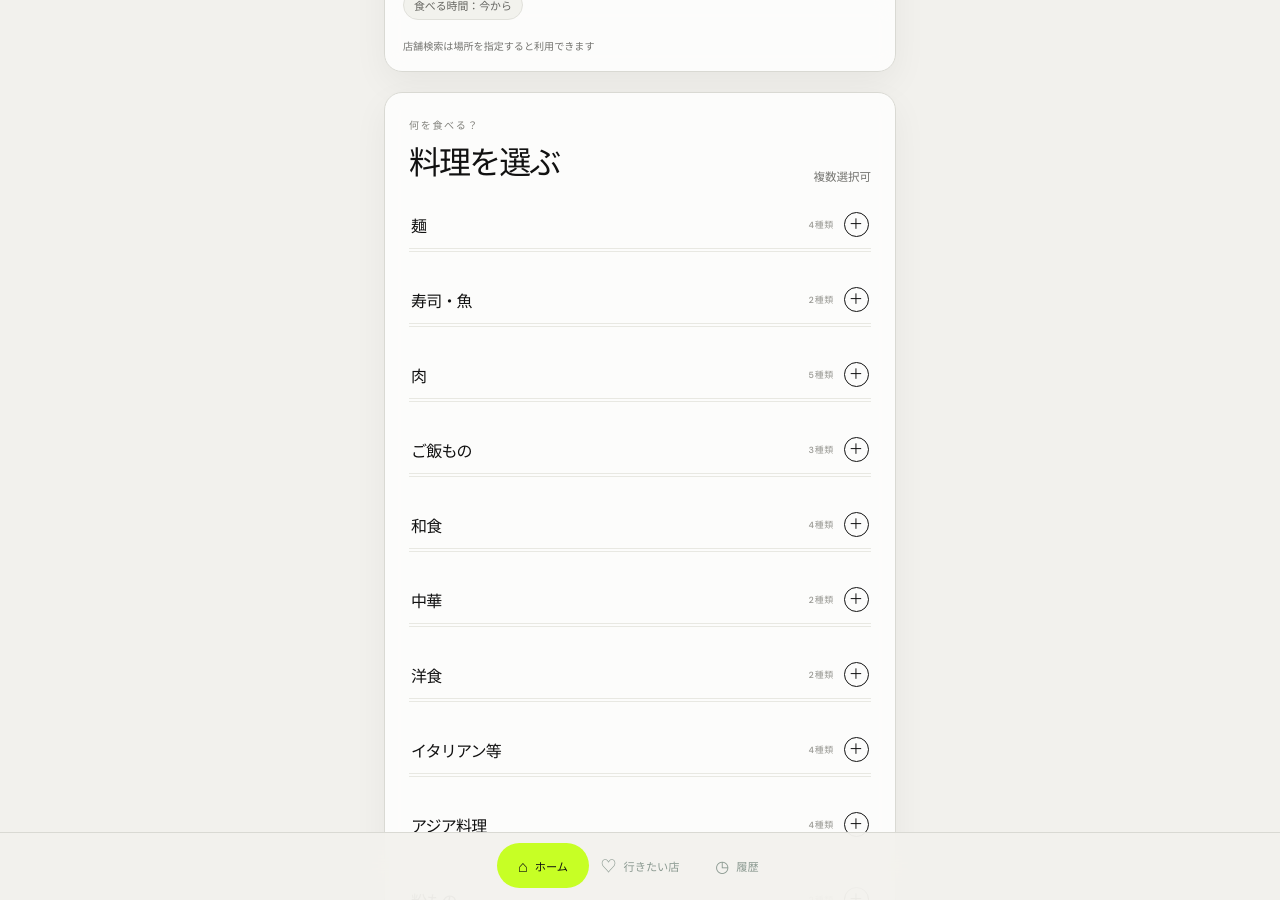
Scenario: meal roulette user flows › can rerun a cuisine decision from history
(page scrolled)
Click the button "ご飯もの 3種類 ＋" at [441, 450], box [409,426,871,474]
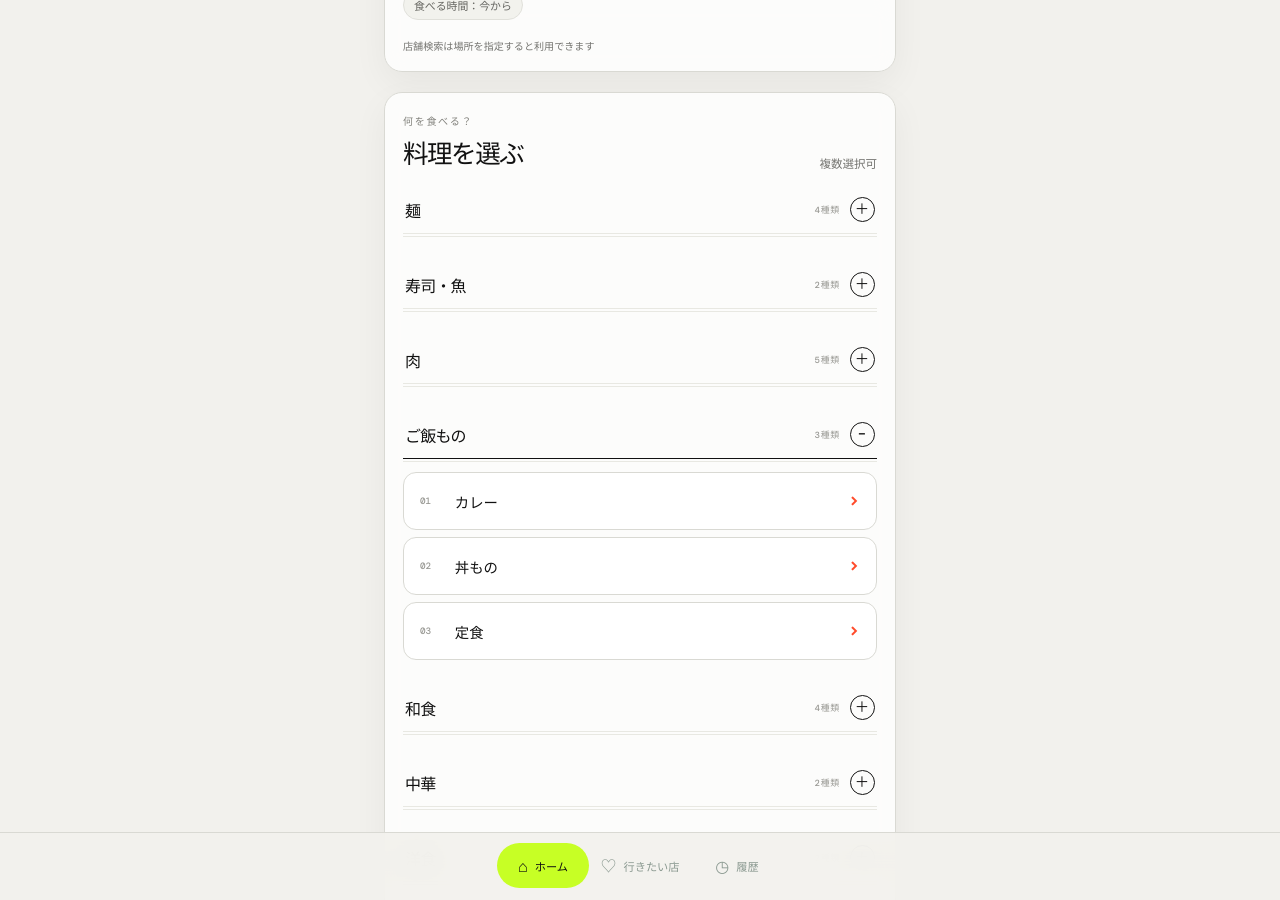
Click the button "カレー" at [476, 502], box [403,472,877,530]
(page scrolled)
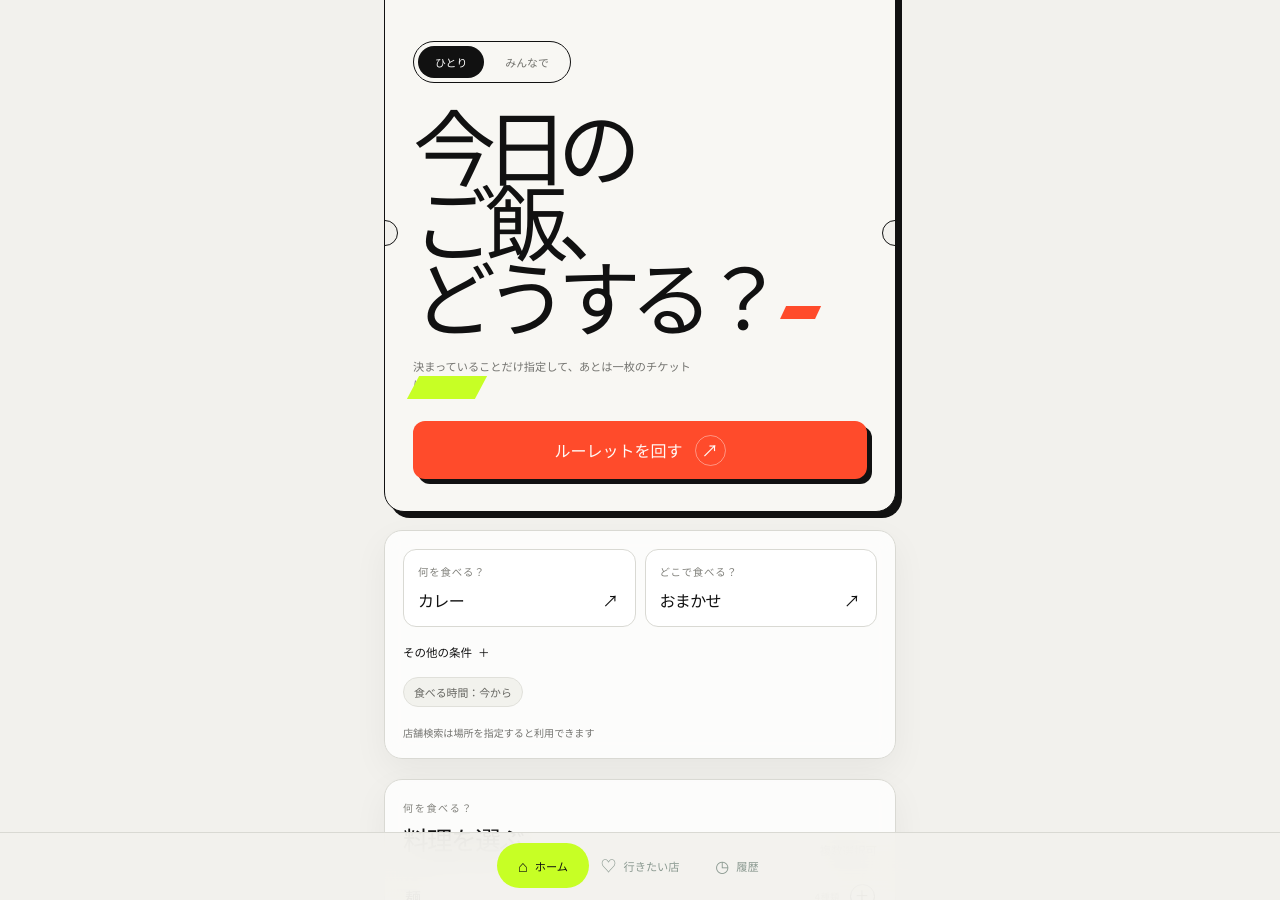
Click the button "ルーレットを回す ↗" at [640, 450], box [413,421,867,479]
(page scrolled)
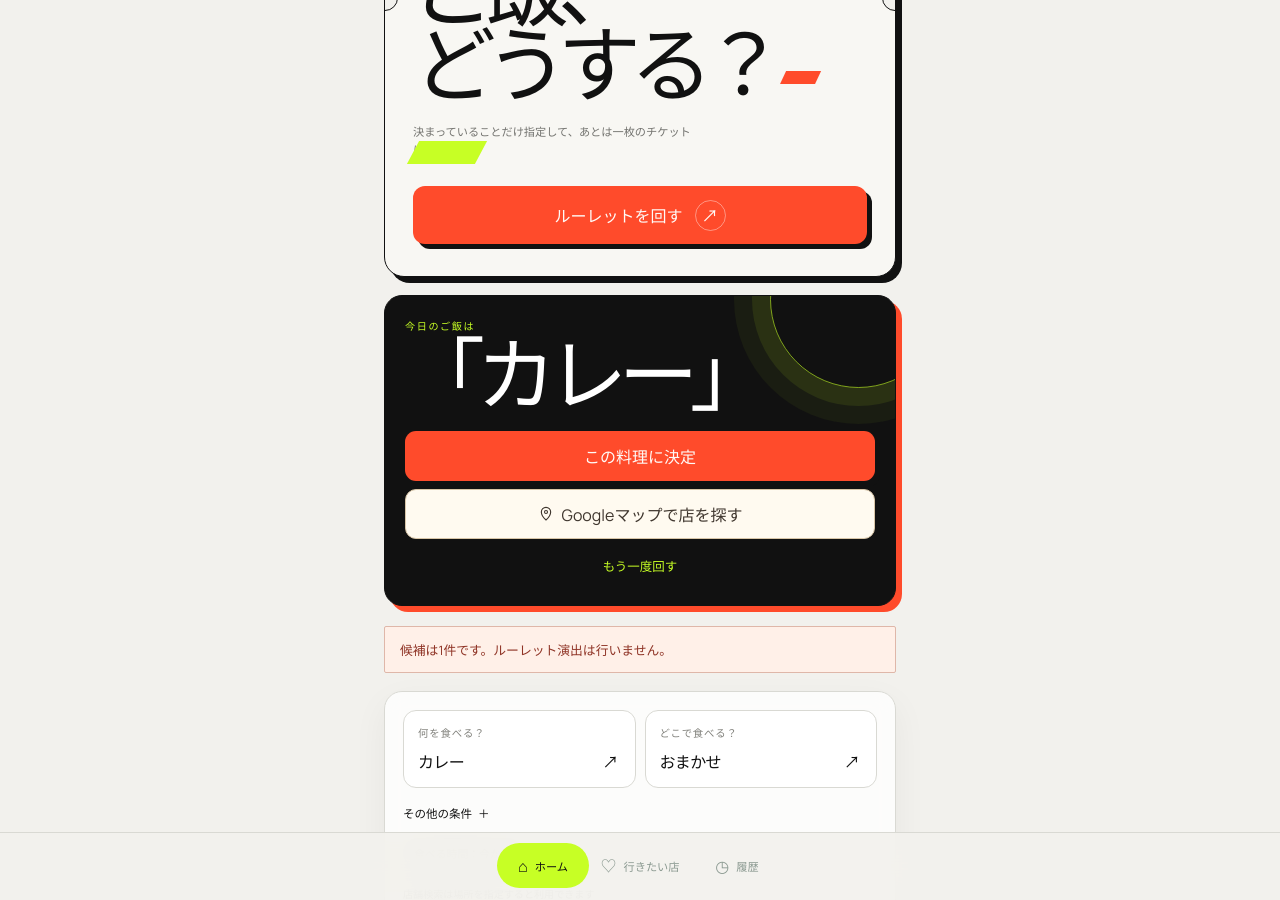
Click the button "この料理に決定" at [640, 456], box [405,431,875,481]
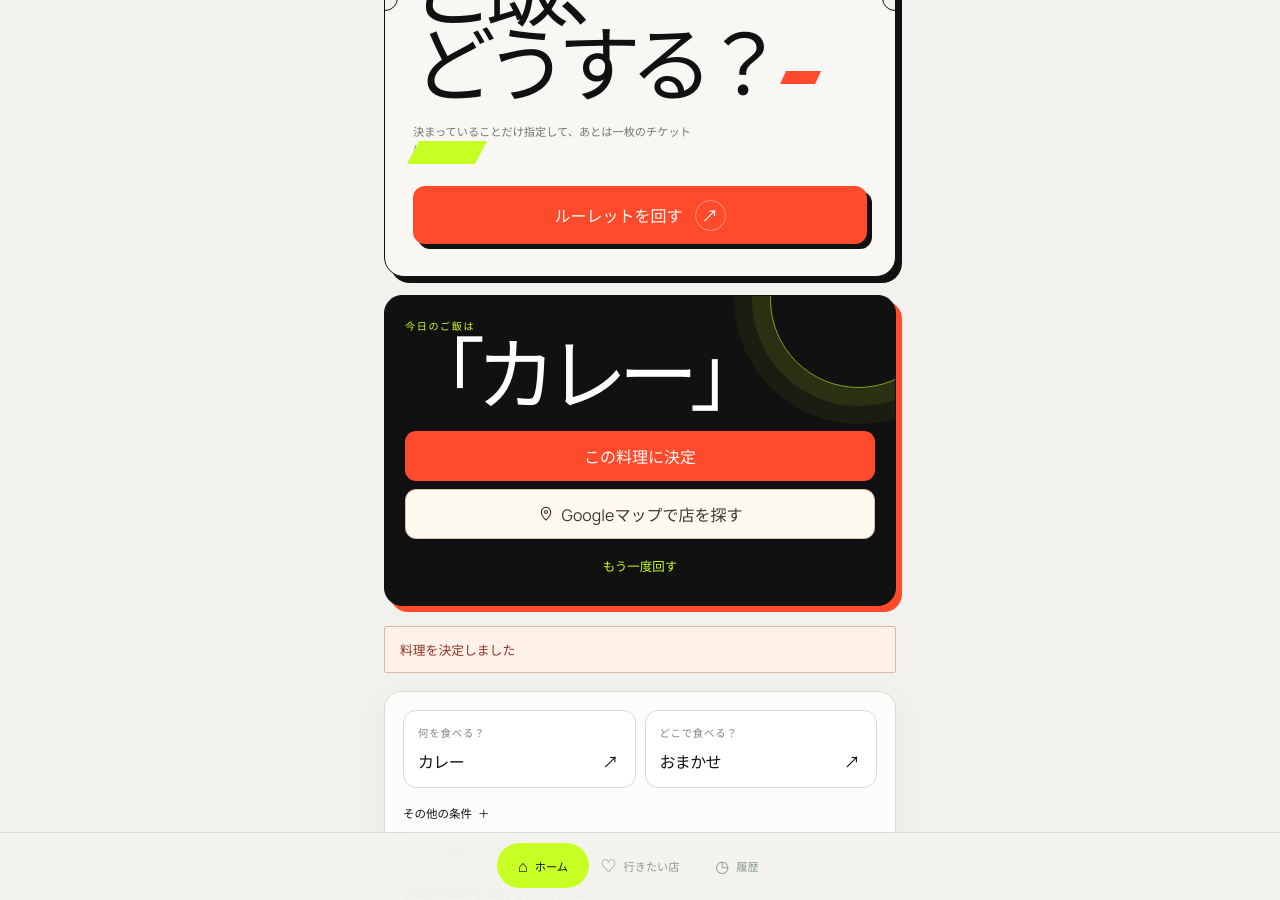
Click the button "◷ 履歴" at [737, 866], box [691,843,783,888]
(page scrolled)
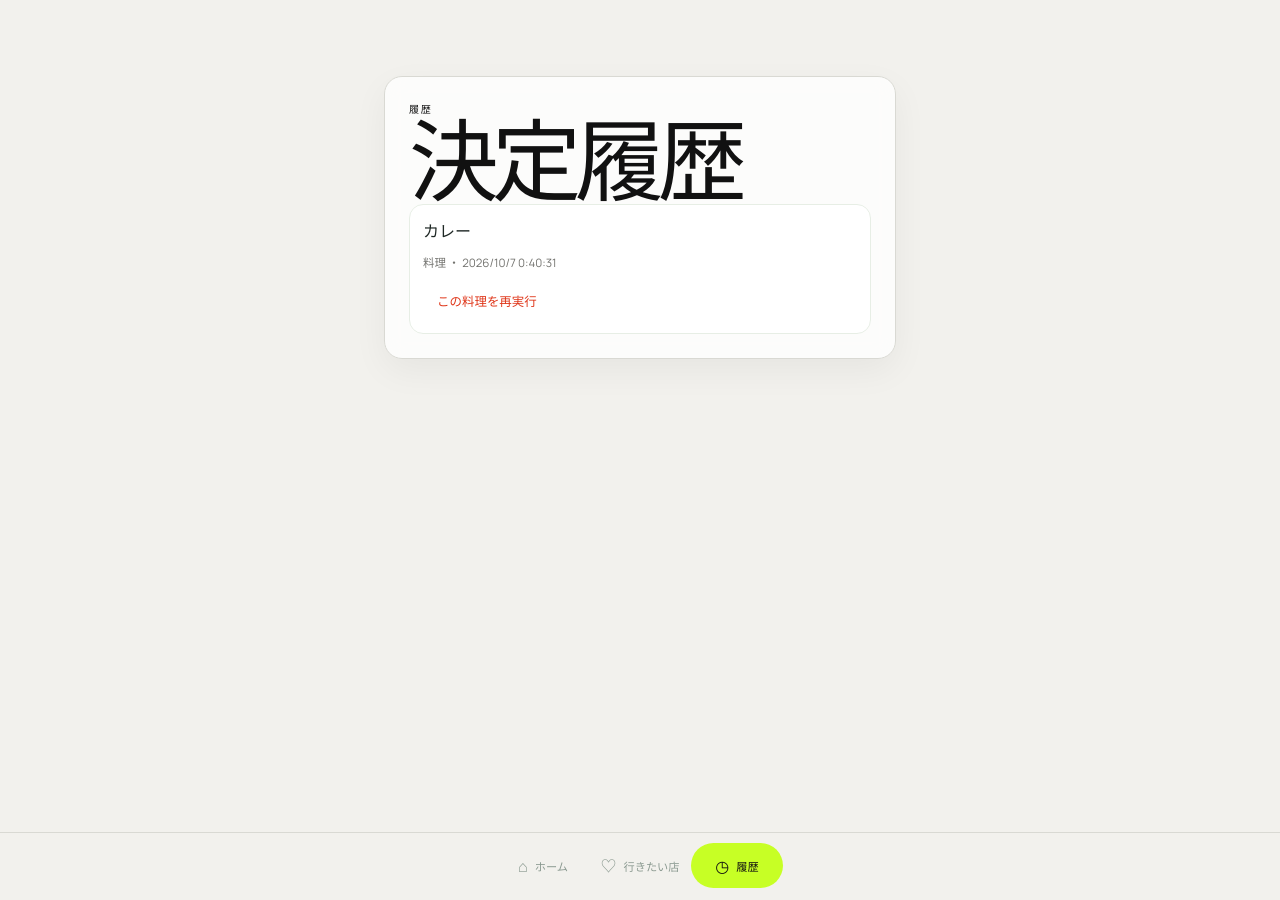
Click the button "この料理を再実行" at [487, 301], box [423,282,551,320]
(page scrolled)
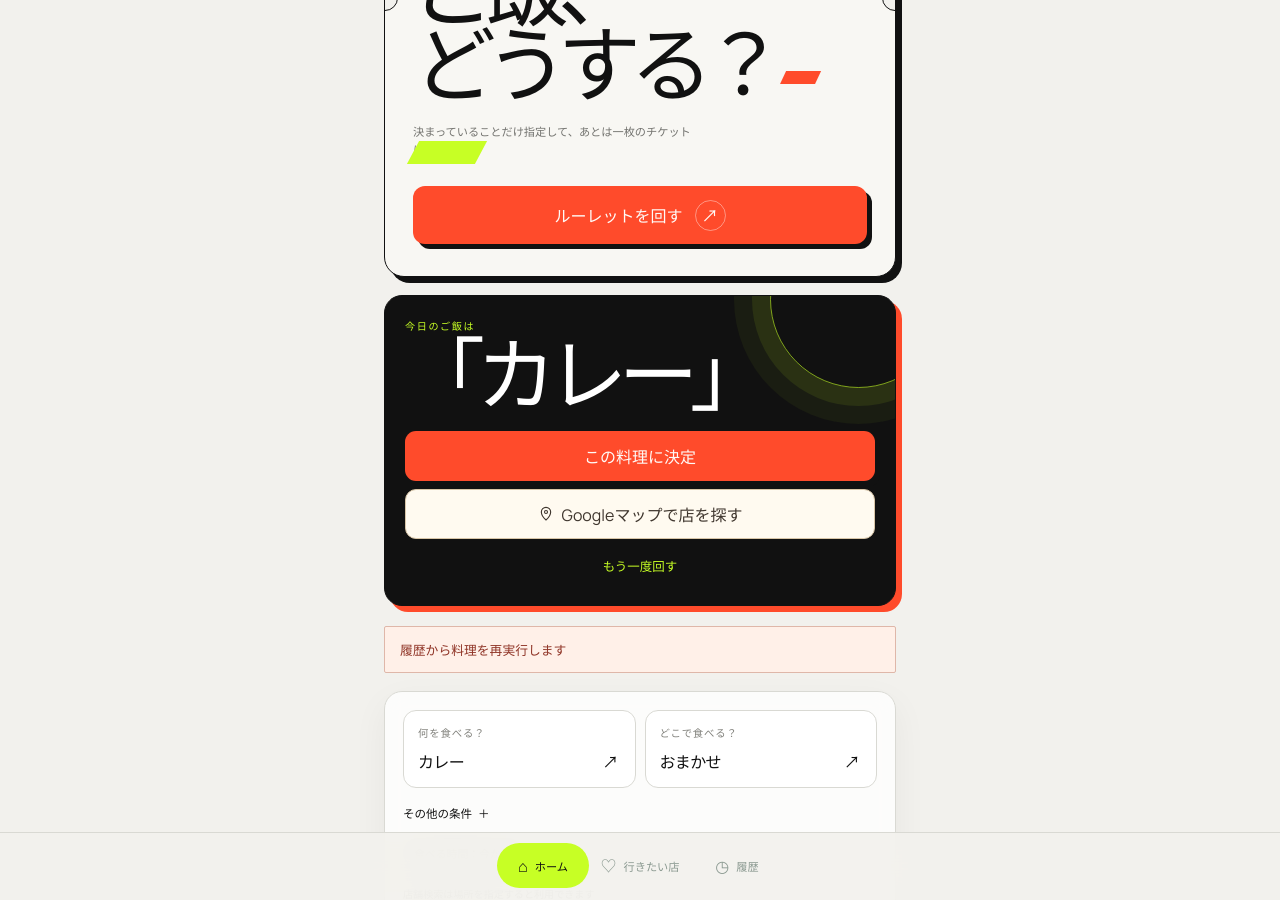
Expected: the button "何を食べる？ カレー" is shown, [403,710,636,788]
